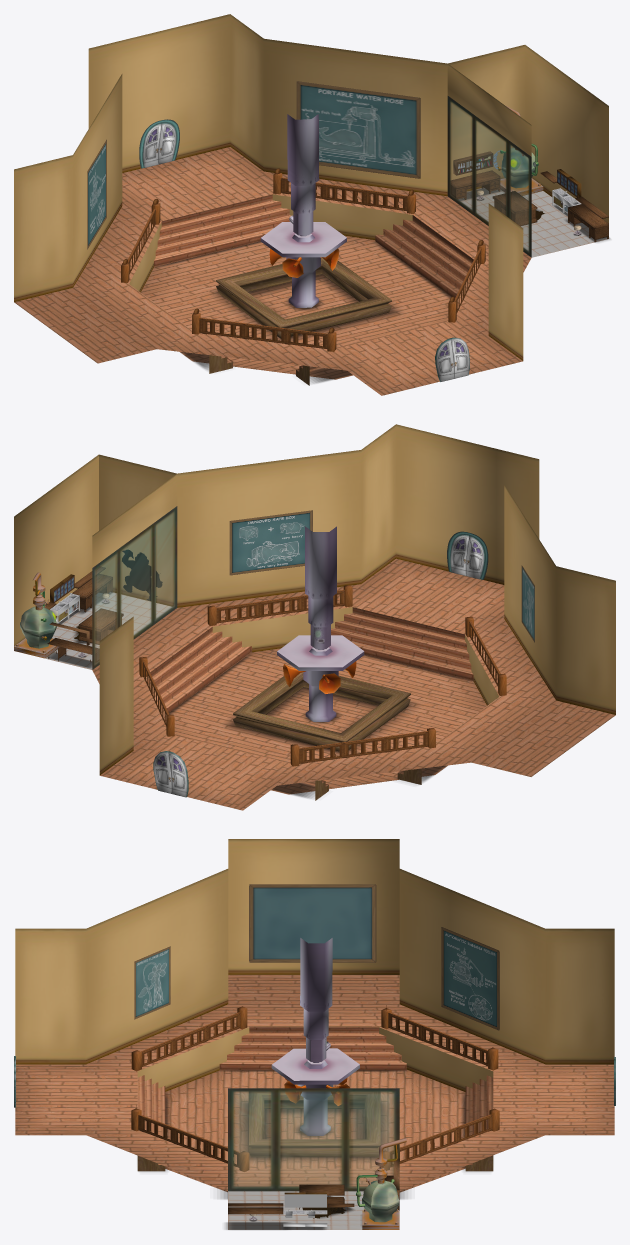
File: hq_interior.glb
3 views of the same model, one above another, from view 1: azimuth 30°, elevation 25°; view 2: azimuth 150°, elevation 25°; view 3: azimuth 270°, elevation 25° (orthographic). The views are drawn at different scales.
Visible parts, largest first — view 1: o1, topLevel, decal_base (×2), diagrams, periscope, steps1_3, center_counter, steps1_1, lowerLevel, LowerWalls, o338, decals (+7 smaller); view 2: o1, topLevel, decal_base (×3), periscope, steps1_2, center_counter, diagrams, steps1_1, lowerLevel, LowerWalls, decals (×3), o338_2 (+8 smaller); view 3: o1, topLevel, decal_base (×2), empty_board, periscope, diagrams, LowerWalls, steps1, center_counter, lowerLevel, decals (×2), steps1_2 (+6 smaller).
Boxes of the visible parts, x1,y1,x2,y2 form: o1: [14, 14, 608, 360]; topLevel: [14, 147, 531, 395]; decal_base (×2): [164, 188, 607, 348]; diagrams: [87, 81, 420, 249]; periscope: [260, 114, 346, 310]; steps1_3: [154, 194, 291, 267]; center_counter: [216, 258, 391, 338]; steps1_1: [374, 215, 473, 298]; lowerLevel: [141, 235, 450, 379]; LowerWalls: [129, 194, 412, 292]; o338: [199, 317, 327, 348]; decals: [213, 274, 399, 340]; o1: [14, 424, 615, 775]; topLevel: [92, 558, 615, 810]; decal_base (×3): [14, 454, 463, 763]; periscope: [277, 526, 364, 723]; steps1_2: [331, 607, 473, 681]; center_counter: [233, 672, 410, 751]; diagrams: [229, 510, 534, 642]; steps1_1: [150, 627, 251, 714]; lowerLevel: [169, 648, 486, 794]; LowerWalls: [212, 607, 499, 705]; decals (×3): [46, 549, 414, 754]; o338_2: [299, 731, 428, 763]; o1: [15, 839, 614, 1191]; topLevel: [15, 975, 614, 1190]; decal_base (×2): [167, 1072, 462, 1229]; empty_board: [249, 884, 376, 962]; periscope: [271, 938, 359, 1137]; diagrams: [134, 927, 499, 1030]; LowerWalls: [137, 1027, 493, 1091]; steps1: [219, 1027, 407, 1071]; center_counter: [249, 1091, 380, 1156]; lowerLevel: [165, 1070, 465, 1192]; decals (×2): [225, 1102, 385, 1229]; steps1_2: [137, 1075, 169, 1171].
Bounding box in the file's own units: 87.1 × 30.54 × 86.42.
Materials: 44 (36 with a texture image).
